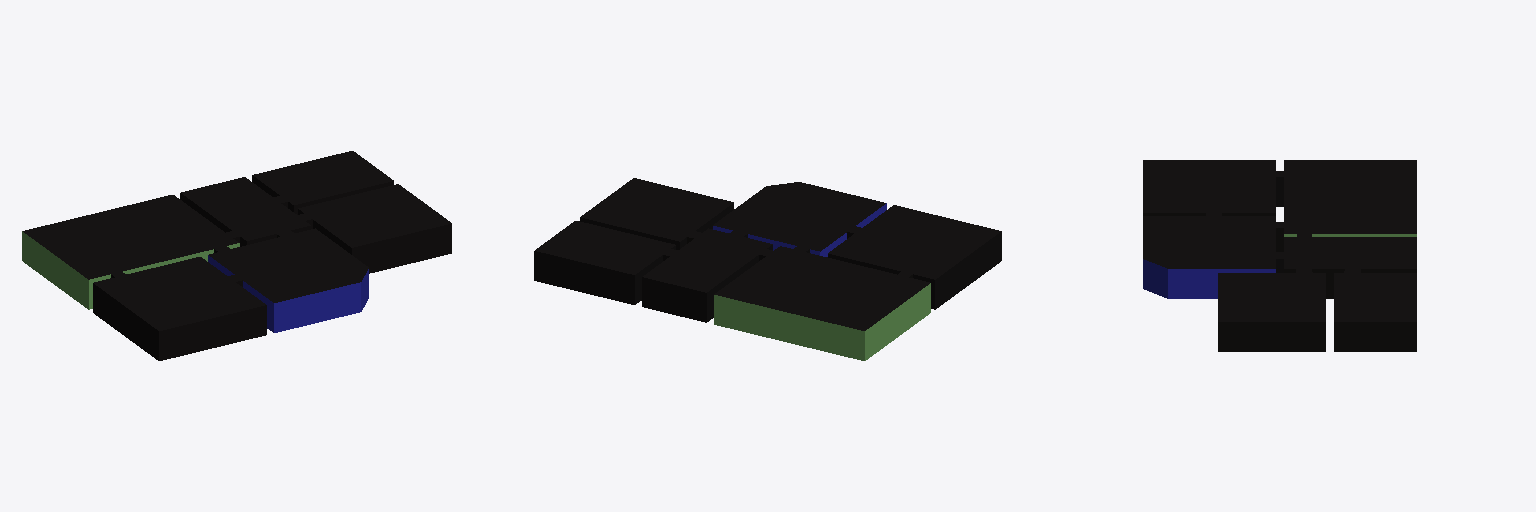
Rendered from Rorstrandsgatan.obj.
3 renders of one model, left to right at view 1: azimuth 30°, elevation 25°; view 2: azimuth 150°, elevation 25°; view 3: azimuth 270°, elevation 25°, orthographic.
Visible parts, largest first — view 1: Plane; view 2: Plane; view 3: Plane.
Part boxes in pixels (bbox=[...]): Plane: bbox=[22, 151, 451, 360]; Plane: bbox=[534, 178, 1001, 360]; Plane: bbox=[1143, 160, 1416, 351].
Size of the model in its own units: 46 by 4 by 33.